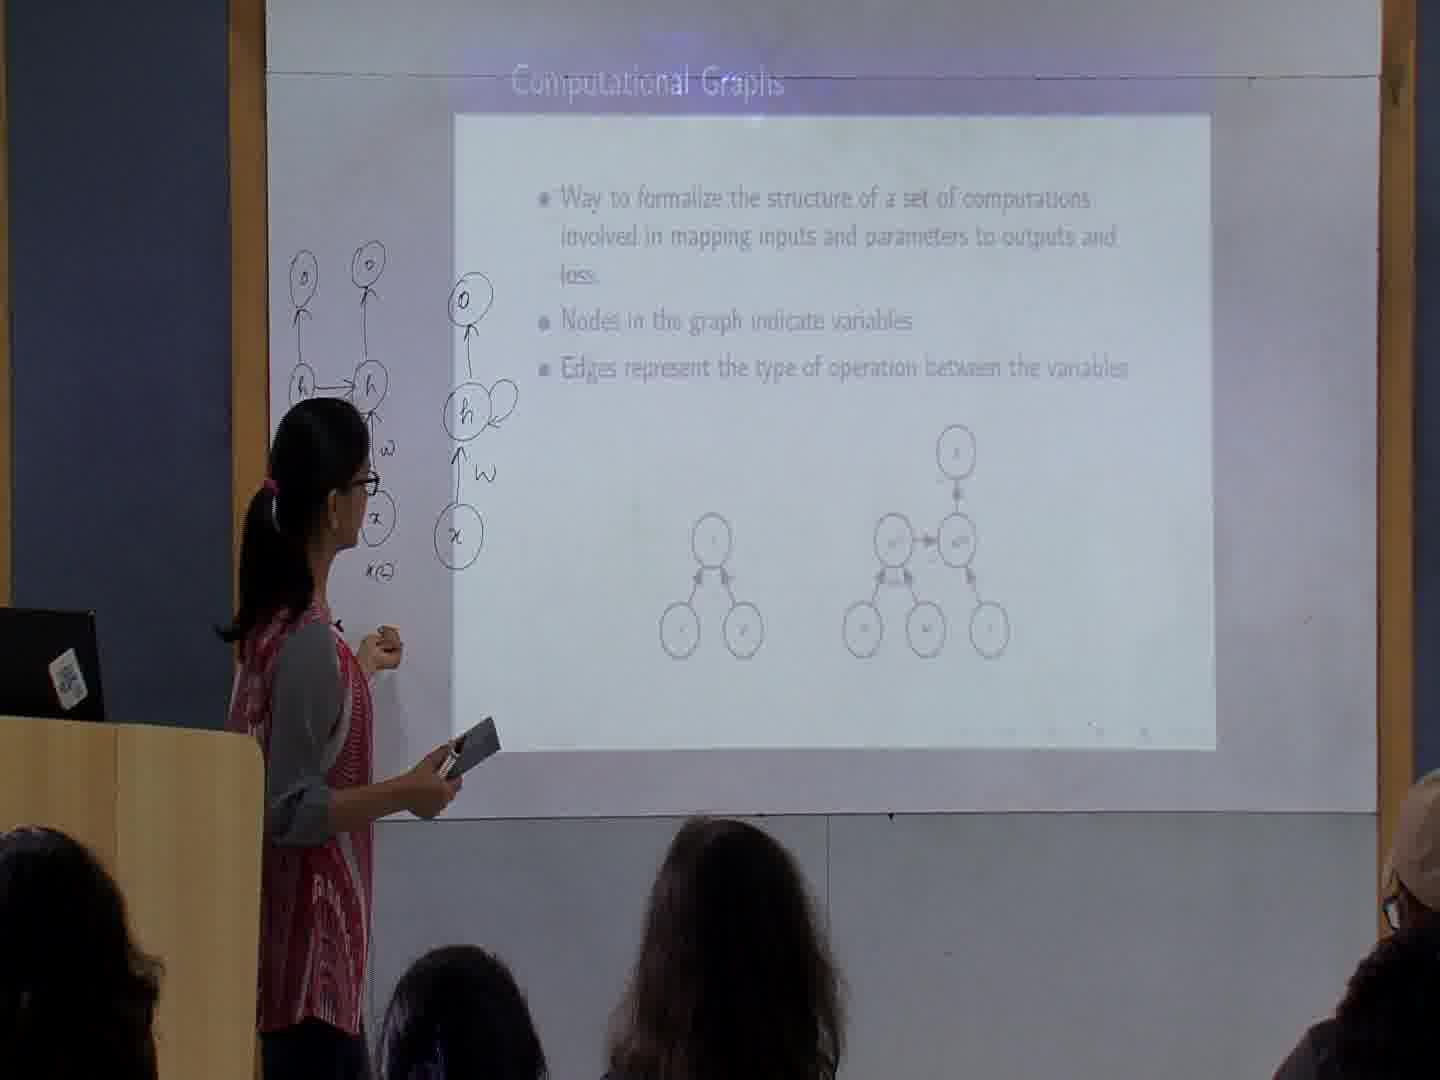fig: (657, 509, 768, 661)
